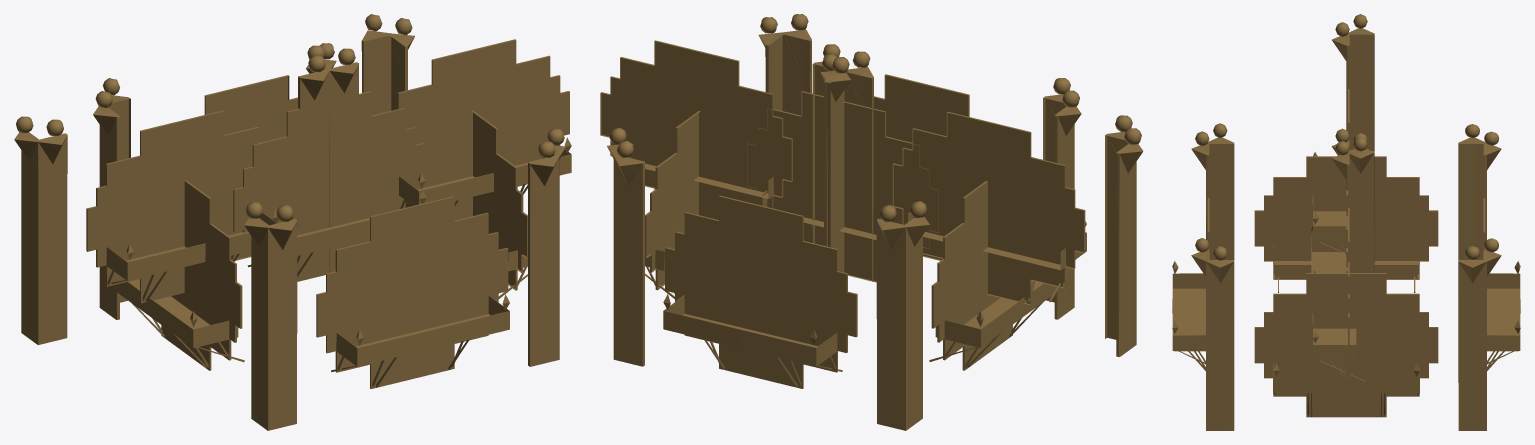
The model's file is One.fbx.
3 views of the same model, side by side, from view 1: azimuth 30°, elevation 25°; view 2: azimuth 150°, elevation 25°; view 3: azimuth 270°, elevation 25° (orthographic). The views are drawn at different scales.
Parts seen in each view (by area): view 1: One_Whole, One_Full, One_Right, One_Middle; view 2: One_Whole, One_Full, One_Right, One_Middle; view 3: One_Whole, One_Full, One_Right, One_Middle.
Part boxes in pixels (<box>): One_Whole: <box>93,14,565,430</box>; One_Full: <box>14,43,336,344</box>; One_Right: <box>306,39,571,272</box>; One_Middle: <box>233,91,426,281</box>; One_Whole: <box>607,14,1081,430</box>; One_Full: <box>820,51,1143,356</box>; One_Right: <box>600,40,850,270</box>; One_Middle: <box>747,91,938,282</box>; One_Whole: <box>1172,123,1520,430</box>; One_Full: <box>1312,14,1374,272</box>; One_Right: <box>1312,132,1374,384</box>; One_Middle: <box>1311,190,1348,272</box>.
Bounding box in the file's own units: 4131 × 2039 × 2726.
